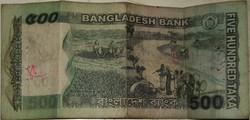500 taka: (1, 4, 246, 115)
